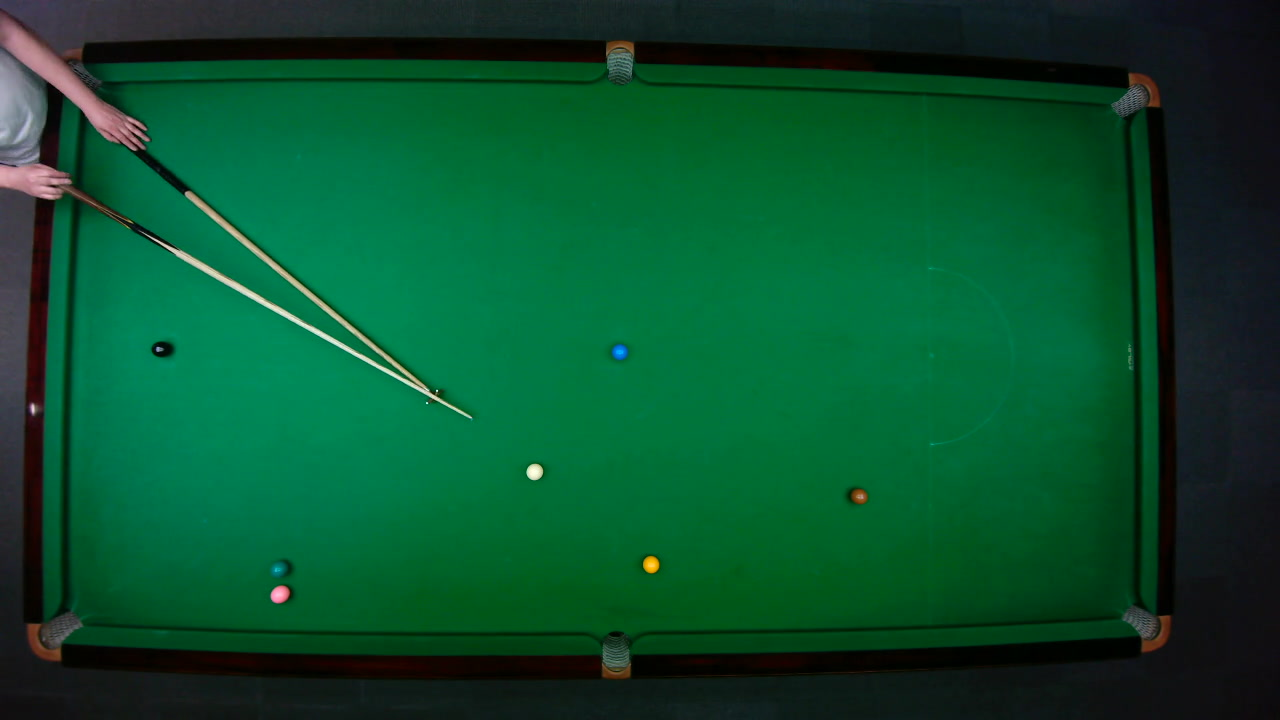bag: (25, 609, 83, 661), (1119, 603, 1171, 651), (1108, 72, 1160, 118), (48, 48, 100, 92), (601, 629, 630, 679), (605, 38, 633, 85)
black: (149, 340, 171, 357)
blue: (609, 342, 628, 360)
brown: (848, 487, 868, 504)
cue: (61, 166, 473, 423)
green: (269, 558, 289, 576)
pink: (268, 583, 290, 604)
white: (524, 462, 544, 480)
yellow: (640, 553, 660, 574)
zone: (926, 266, 1013, 445)
